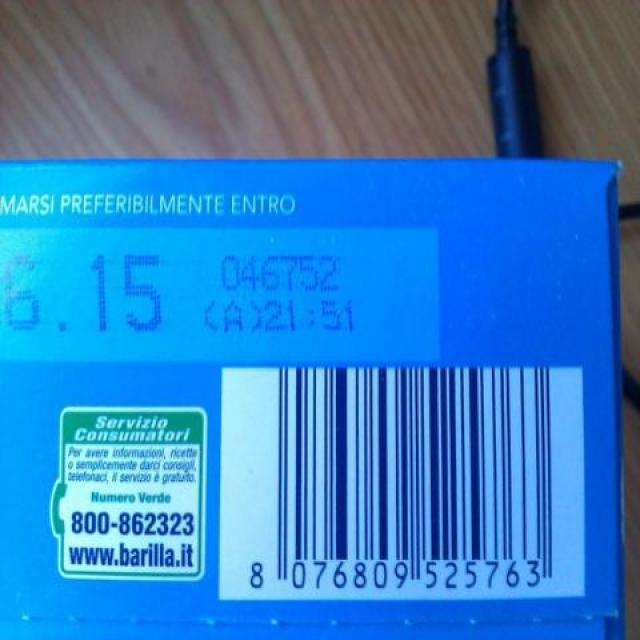Barcode: (220, 368, 585, 596)
